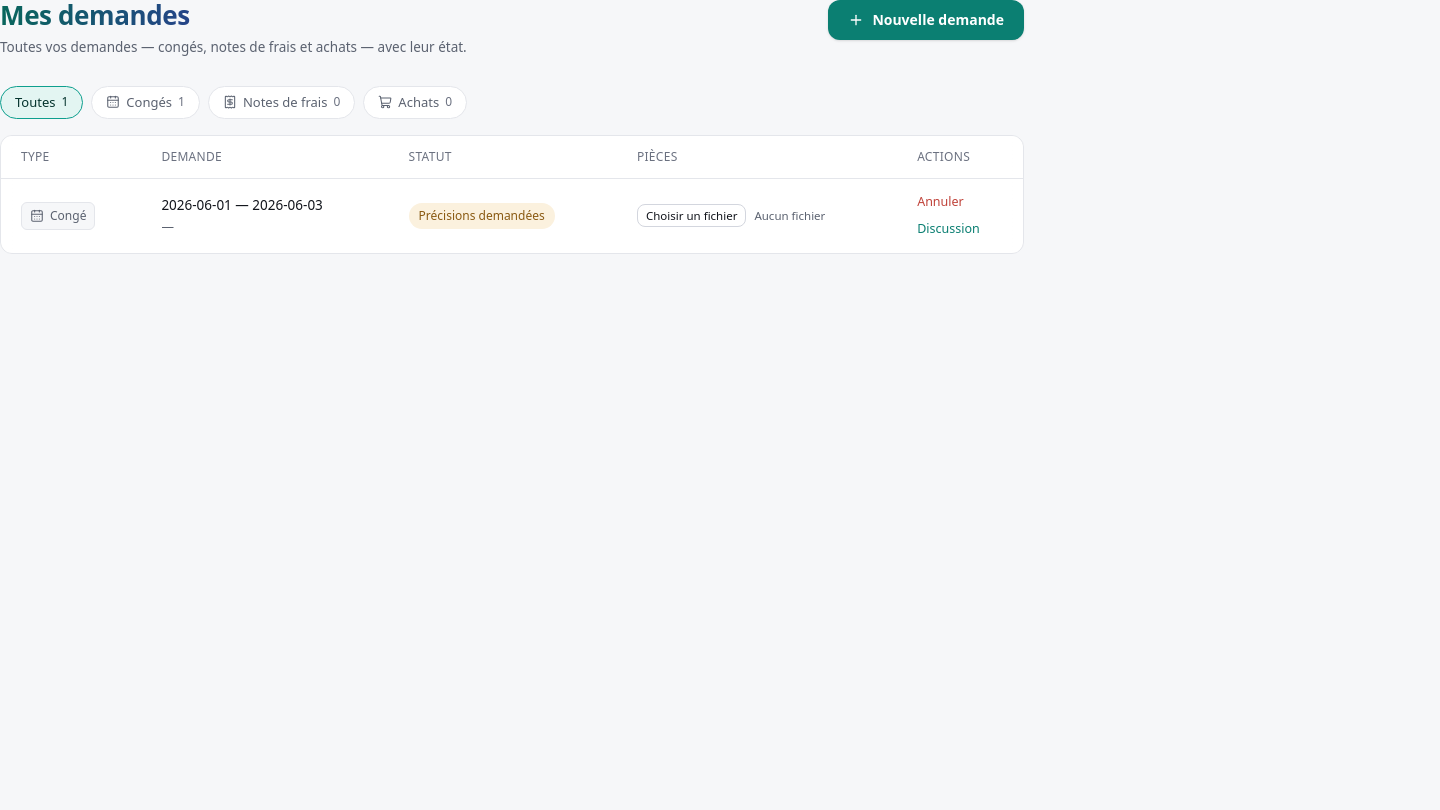
MesDemandesPage — congés › cliquer sur Discussion ouvre une boîte de dialogue qui rappelle la demande concernée
The width and height of the screenshot is (1440, 810).
Click the button "Discussion": [948, 229] box [917, 220, 980, 239]
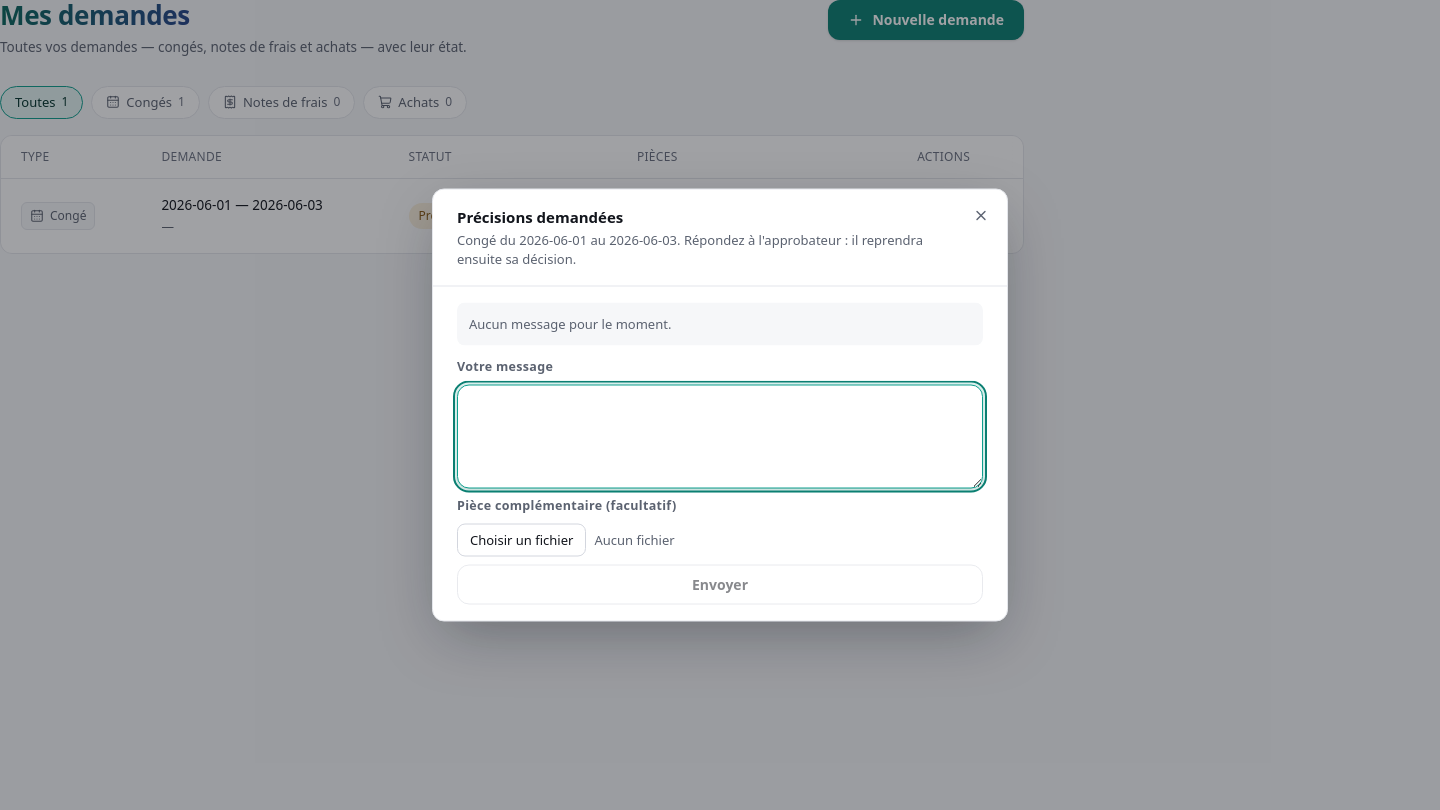
Expected: the dialog shows "Précisions demandées", [457, 206, 623, 226]
Expected: the dialog shows "Congé du 2026-06-01 au 2026-06-03", [457, 230, 677, 248]
